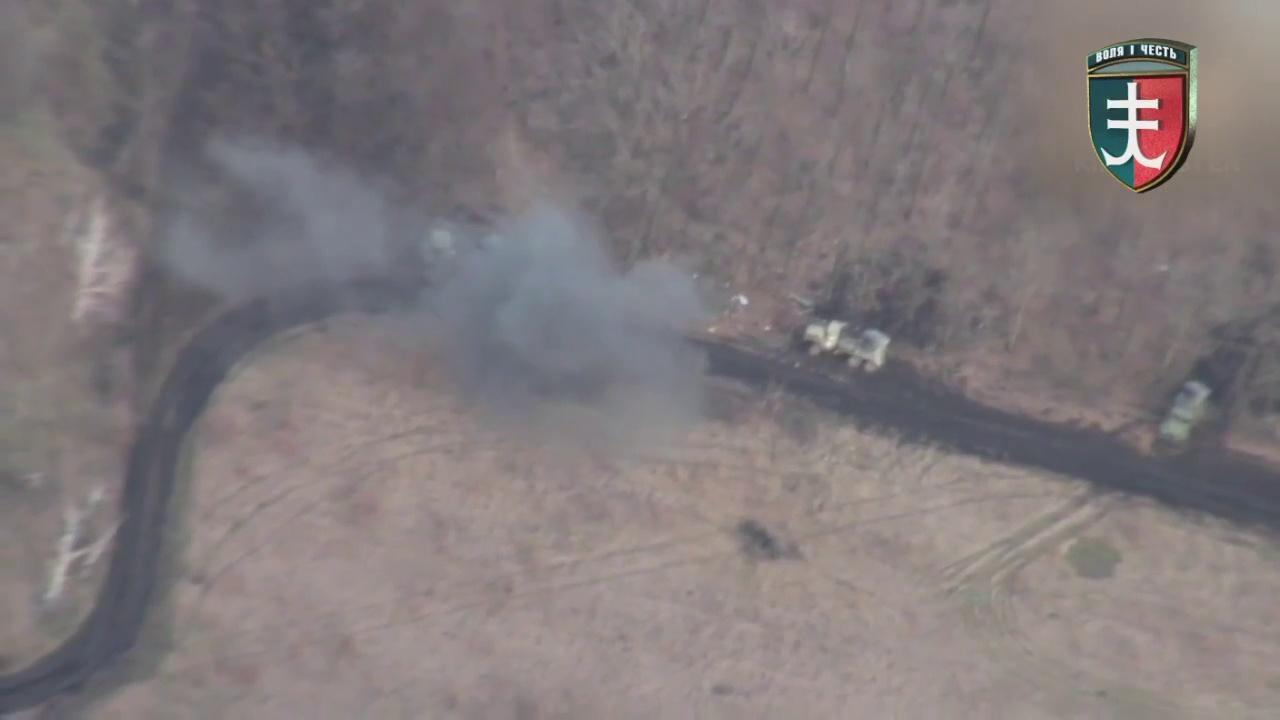vehicle: (806, 318, 890, 378), (1160, 382, 1212, 445)
